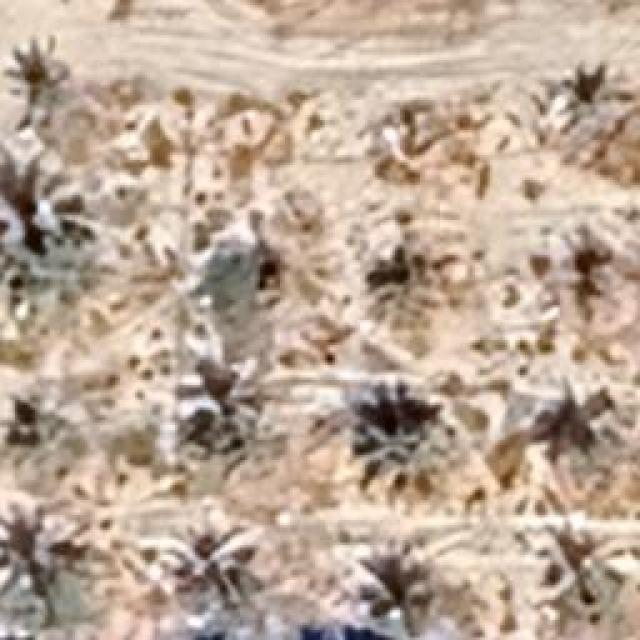PalmTree: (114, 115, 241, 279), (58, 88, 114, 266), (358, 390, 450, 498), (174, 390, 264, 498), (528, 522, 638, 602), (0, 392, 90, 480), (553, 66, 640, 152), (0, 557, 90, 640), (551, 406, 631, 496), (360, 582, 485, 638), (367, 251, 445, 339), (172, 570, 272, 638), (568, 242, 638, 338), (1, 44, 83, 120)
